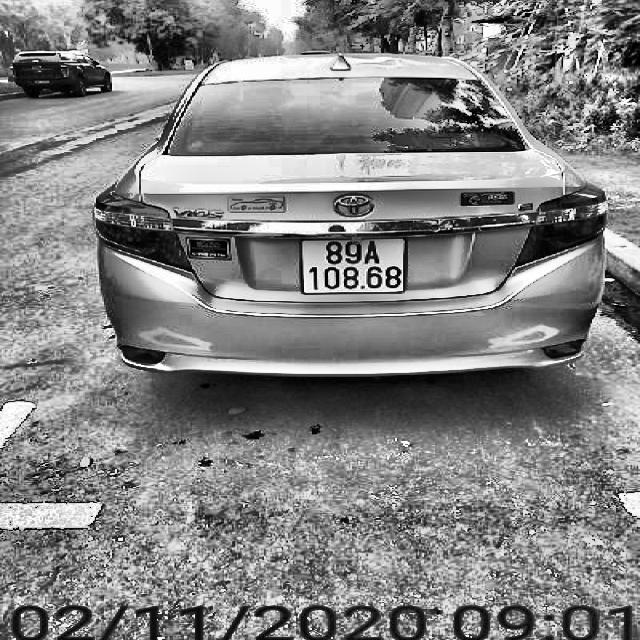plate: (292, 234, 412, 303)
